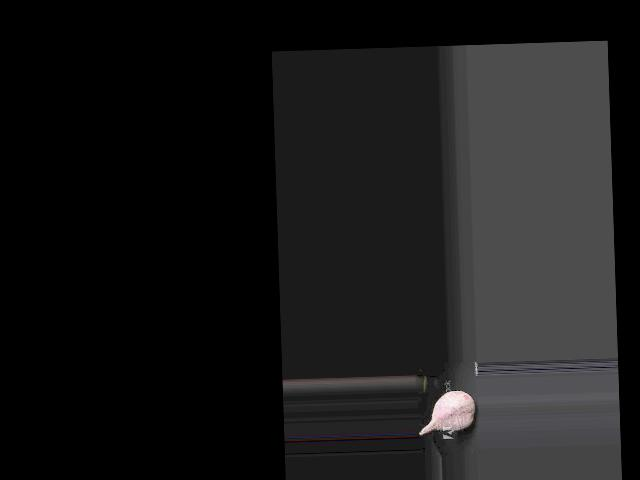beet: (418, 389, 475, 434)
